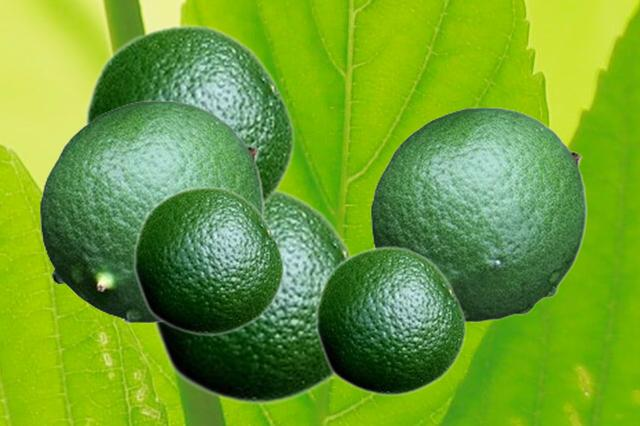calamansi: (39, 99, 263, 322), (370, 106, 586, 321), (151, 186, 353, 405), (83, 23, 295, 209), (314, 245, 466, 396), (132, 185, 284, 336)
